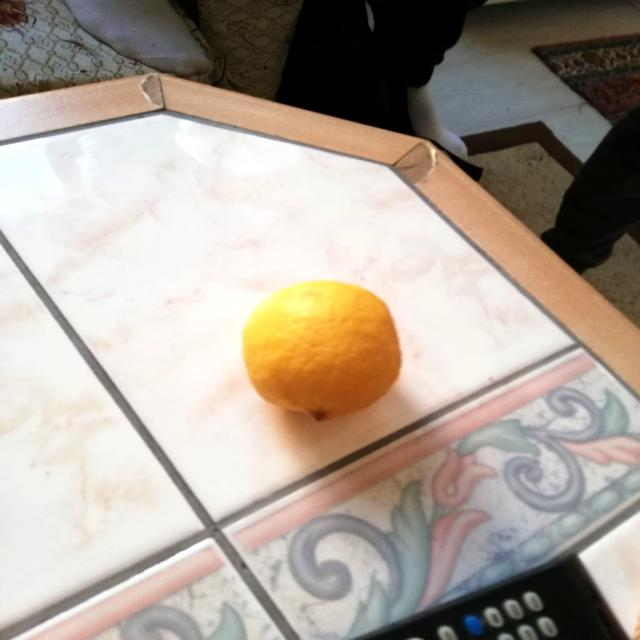lemon: (228, 267, 418, 426)
